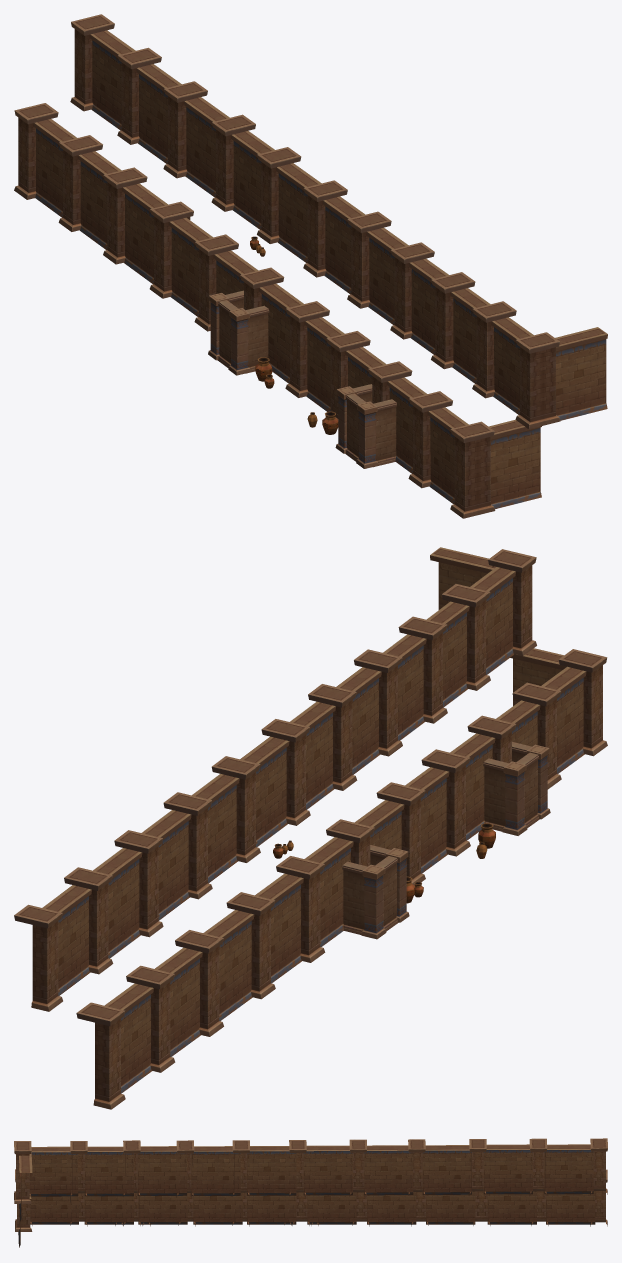
Rendered from Area_13_2.fbx.
3 views of the same model, one above another, from view 1: azimuth 30°, elevation 25°; view 2: azimuth 150°, elevation 25°; view 3: azimuth 270°, elevation 25° (orthographic). The views are drawn at different scales.
Parts seen in each view (by area): view 1: Area_13_2; view 2: Area_13_2; view 3: Area_13_2.
Boxes of the visible parts, left/top/right/bottom form: Area_13_2: left=14, top=14, right=607, bottom=518; Area_13_2: left=14, top=547, right=607, bottom=1109; Area_13_2: left=14, top=1138, right=607, bottom=1247.
Bounding box in the file's own units: 1711 × 1475 × 7771.
